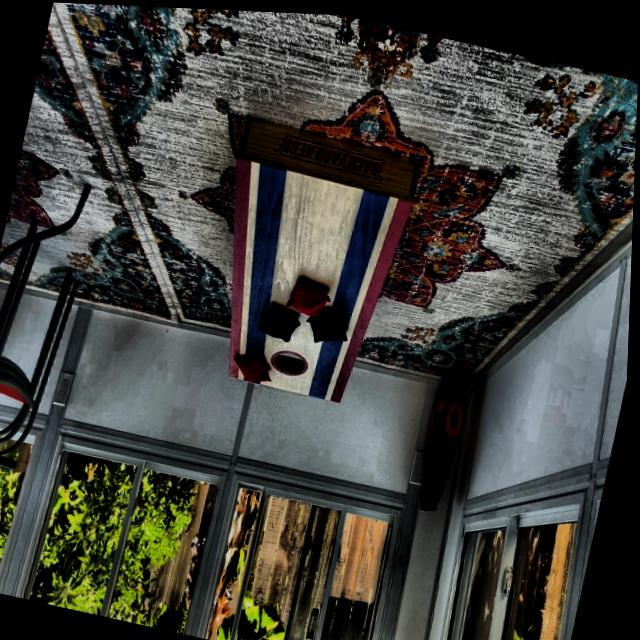blue-bean-bag: (303, 301, 354, 346), (258, 298, 304, 341)
board: (219, 161, 393, 400)
hole: (268, 342, 313, 378)
red-bean-bag: (284, 272, 336, 322), (231, 348, 277, 383)
